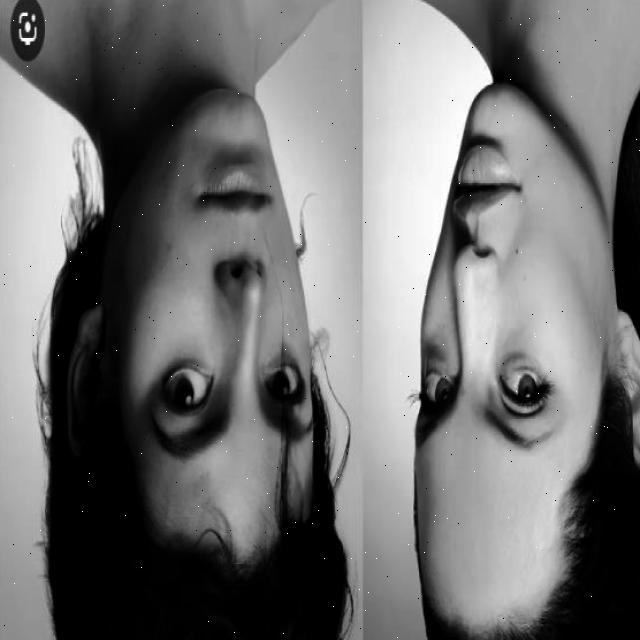puffy_eyes: (500, 347, 550, 374), (420, 341, 454, 369)
